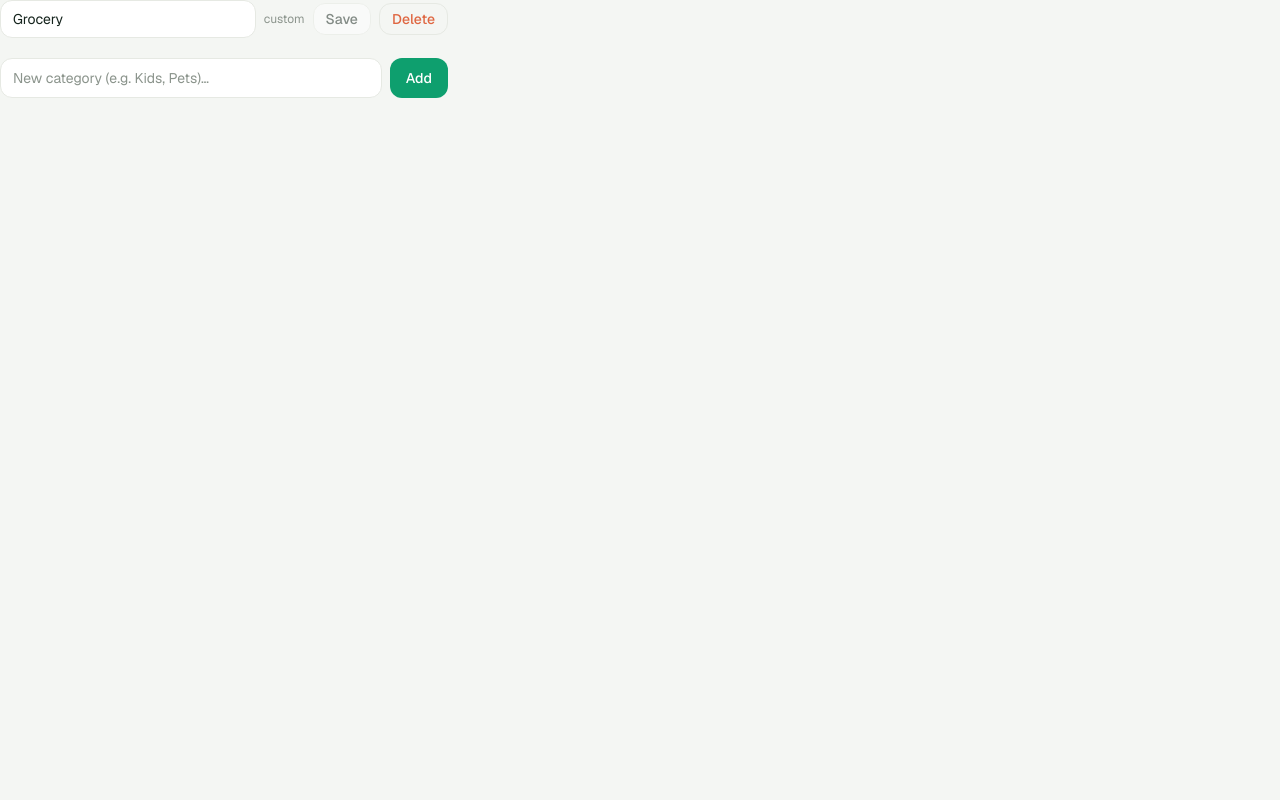
Scenario: CategoryManager delete dialog › says which rows become Uncategorized and where the rest move
Click the button "Delete": (413, 19) x1=379 y1=3 x2=448 y2=35
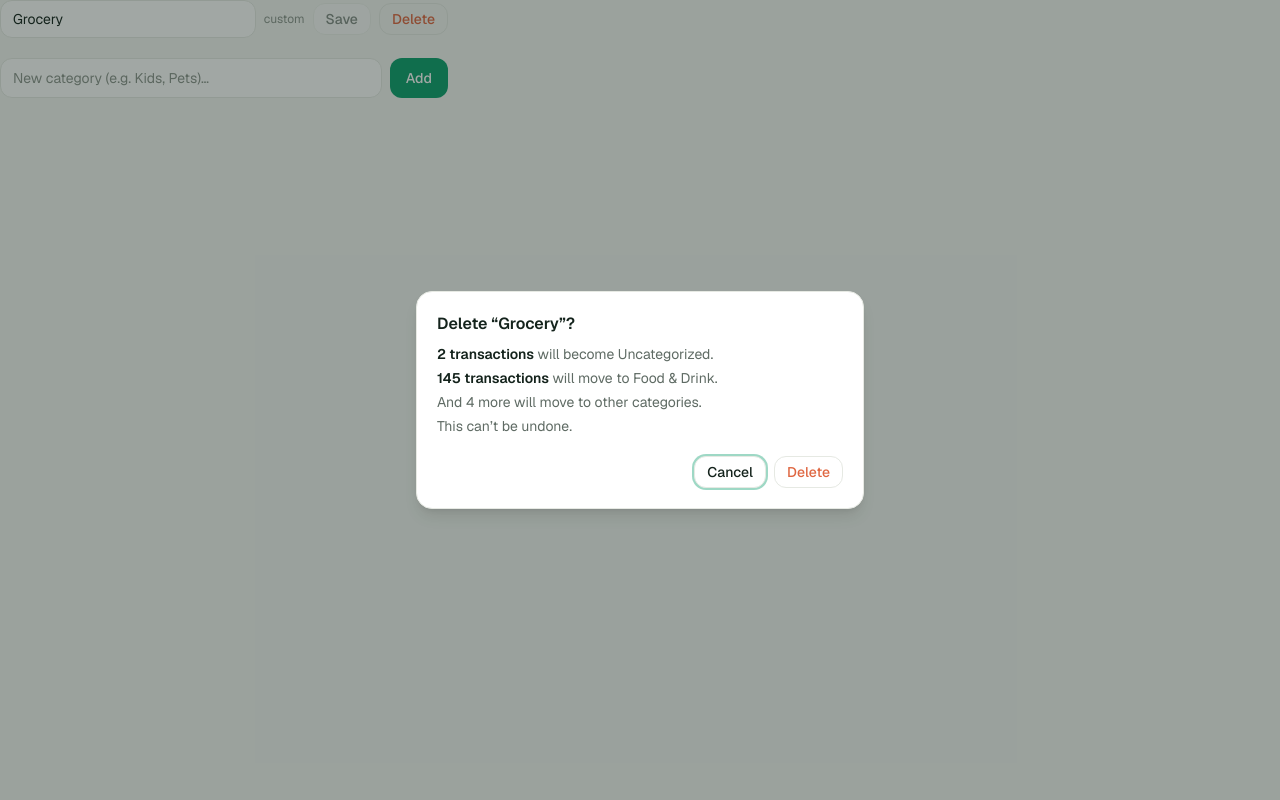
Result: the text "2 transactions will become Uncategorized." is shown at x1=437 y1=345 x2=713 y2=363
Result: the text "145 transactions will move to Food & Drink." is shown at x1=437 y1=369 x2=718 y2=387
Result: the text "And 4 more will move to other categories." is shown at x1=437 y1=393 x2=702 y2=411
